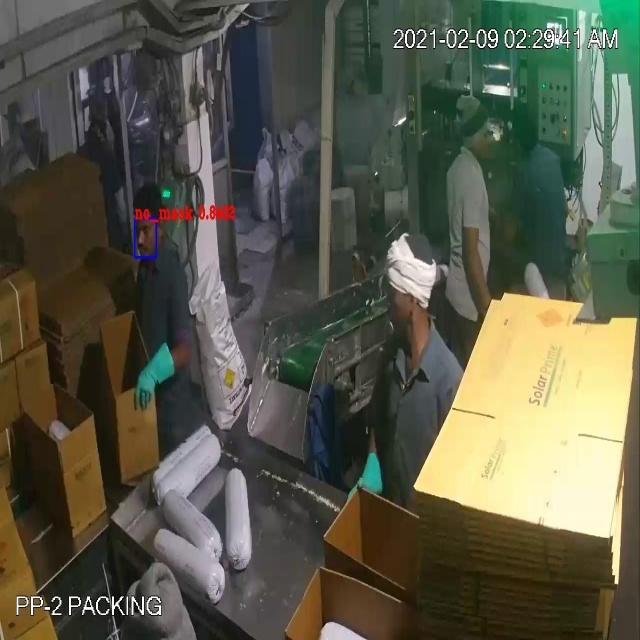Guantes: (342, 444, 389, 523), (133, 348, 188, 414)
Sin_guantes: (455, 215, 503, 318)
